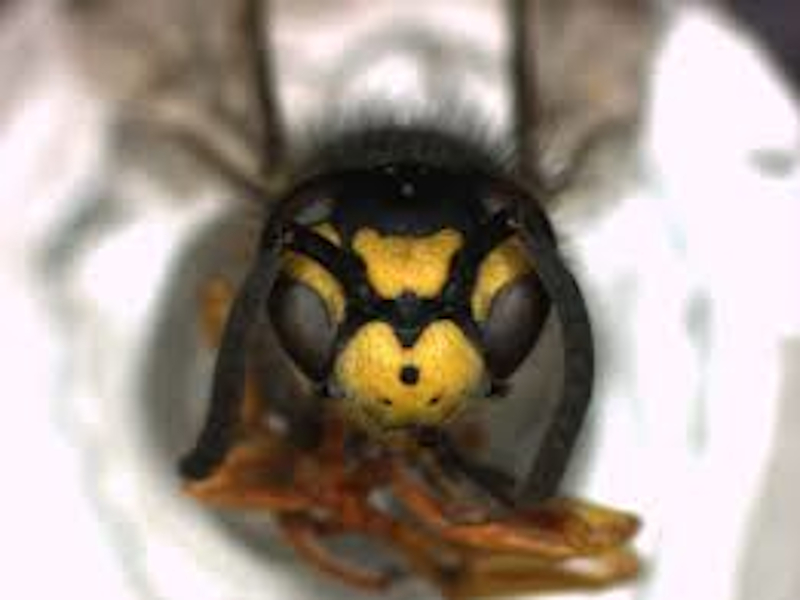chax: (139, 98, 653, 520)
